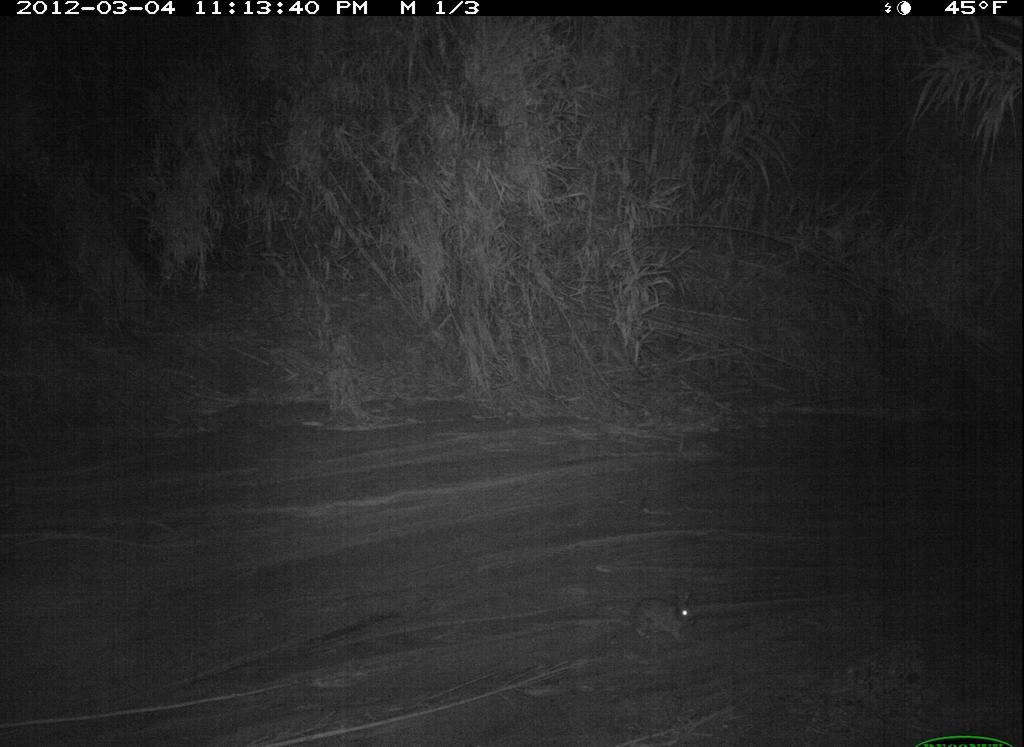rabbit: (626, 585, 709, 658)
